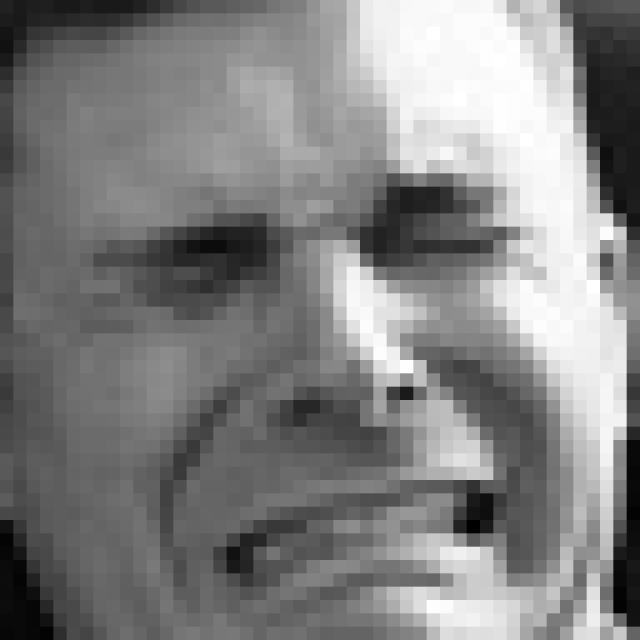sad: (68, 168, 571, 622)
